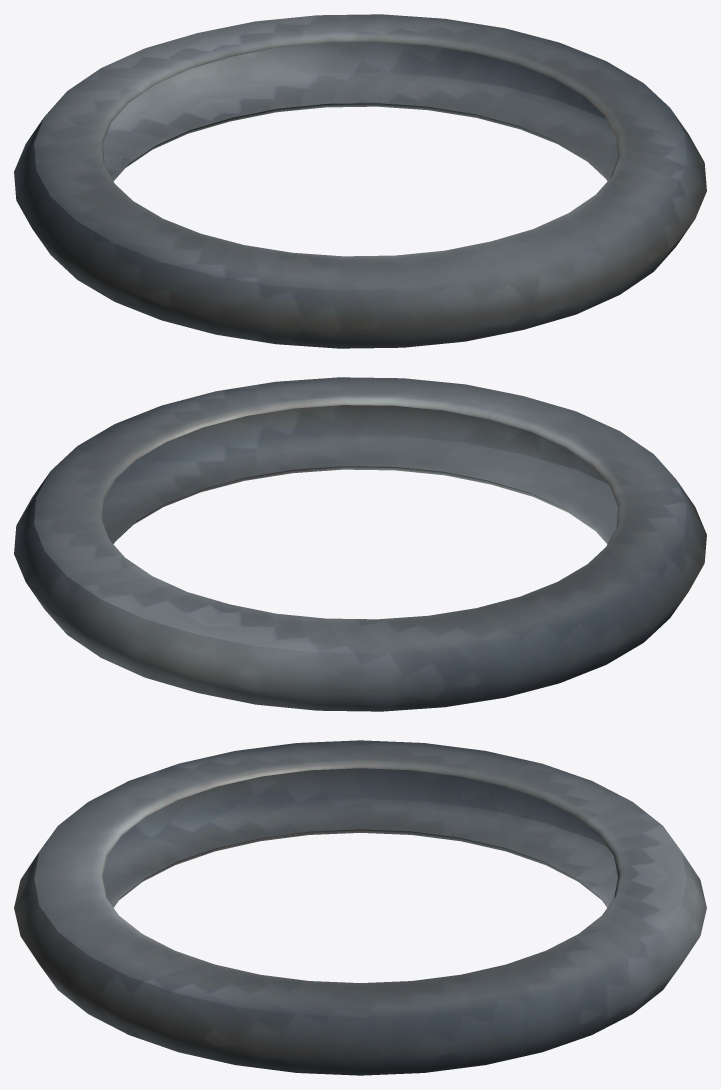
The model's file is pref_fx_scoredouble_purple_born_lv2.fbx.
3 views of the same model, one above another, from view 1: azimuth 30°, elevation 25°; view 2: azimuth 150°, elevation 25°; view 3: azimuth 270°, elevation 25° (orthographic).
Visible parts, largest first — view 1: sm_prop_platform06b_lv2; view 2: sm_prop_platform06b_lv2; view 3: sm_prop_platform06b_lv2.
Part boxes in pixels (x1=…): sm_prop_platform06b_lv2: x1=14, y1=14, x2=706, y2=348; sm_prop_platform06b_lv2: x1=14, y1=377, x2=706, y2=711; sm_prop_platform06b_lv2: x1=14, y1=740, x2=706, y2=1075.
Bounding box in the file's own units: 2.52 × 0.2872 × 2.52.
